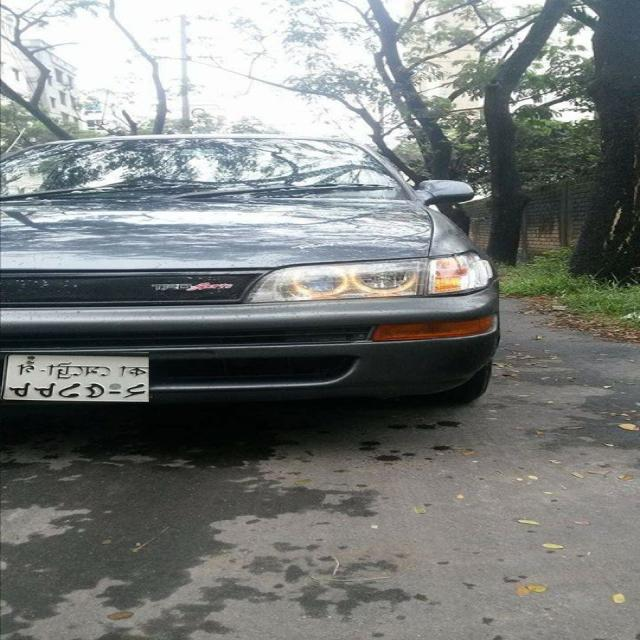numberplate: (0, 352, 149, 402)
